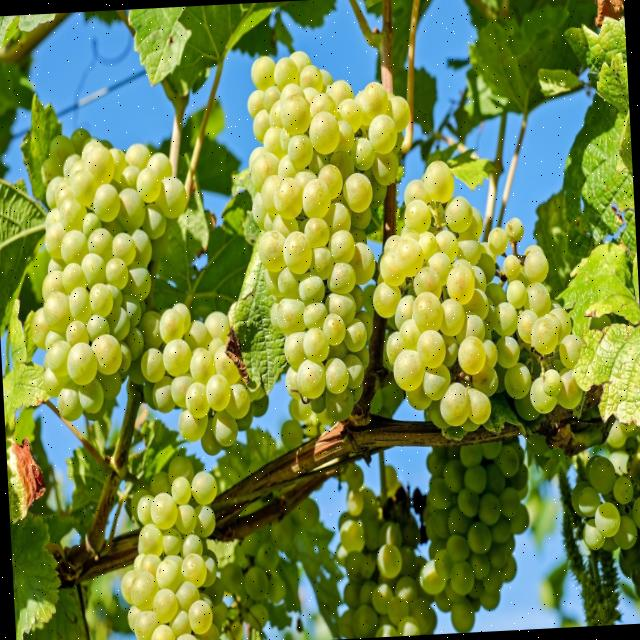grape: (24, 6, 640, 640), (248, 53, 409, 420), (373, 161, 581, 431), (31, 130, 189, 420), (419, 439, 529, 631), (138, 302, 264, 454), (121, 455, 219, 640), (336, 466, 436, 637), (569, 449, 640, 614), (300, 470, 348, 558)
